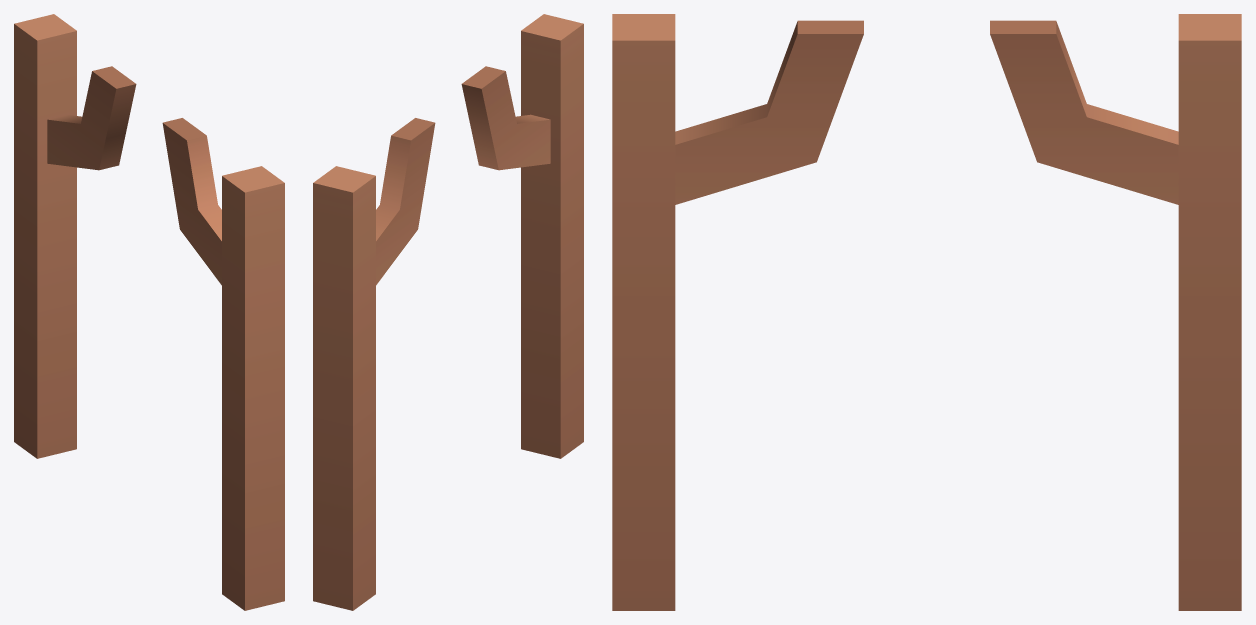
File: ot-balcony-wall.glb
3 views of the same model, side by side, from view 1: azimuth 30°, elevation 25°; view 2: azimuth 150°, elevation 25°; view 3: azimuth 270°, elevation 25° (orthographic). The views are drawn at different scales.
Visible parts, largest first — view 1: balcony-wall; view 2: balcony-wall; view 3: balcony-wall.
Boxes of the visible parts, box(x1,y1,x2,y2) form: balcony-wall: box(14, 14, 284, 610); balcony-wall: box(313, 14, 583, 610); balcony-wall: box(612, 14, 1241, 610).
Size of the model in its own units: 0.1 by 1 by 1.
Materials: 1 (1 with a texture image).
